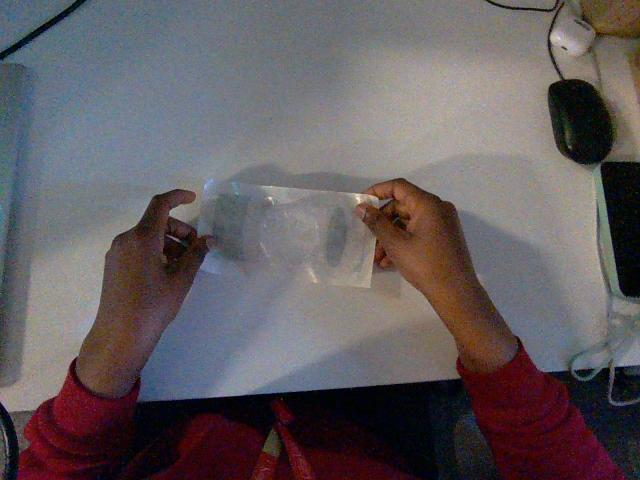gallipot: (198, 181, 378, 287)
